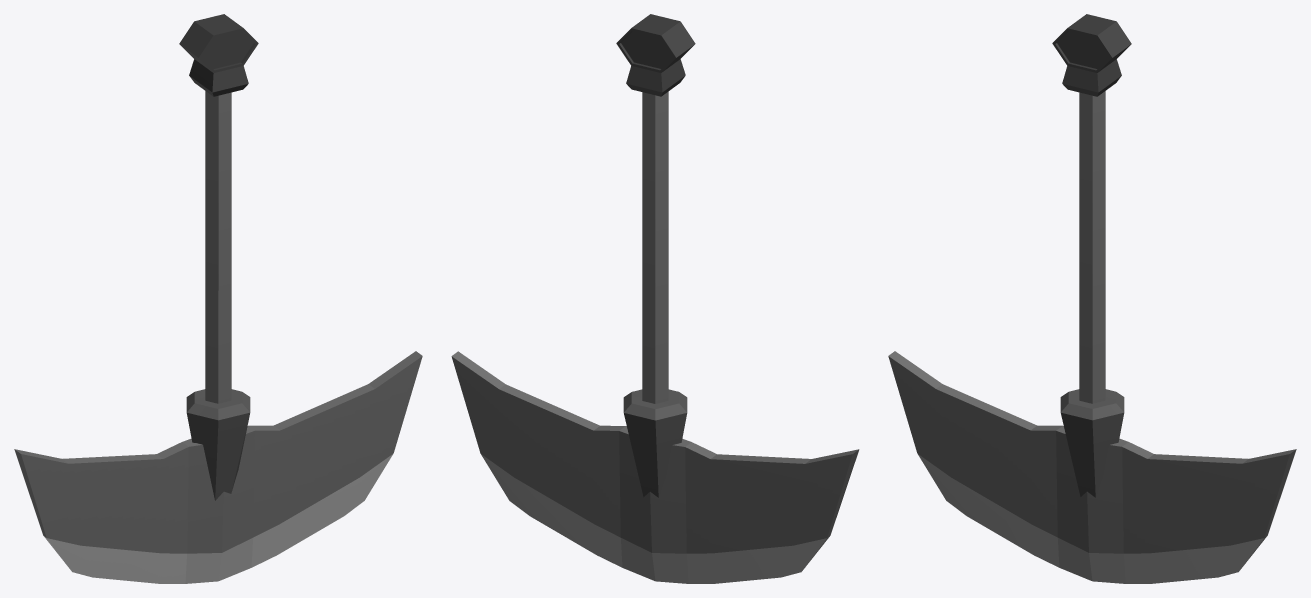
File: Guillotine.fbx
The picture shows the model from 3 angles, left to right: view 1: azimuth 30°, elevation 25°; view 2: azimuth 150°, elevation 25°; view 3: azimuth 330°, elevation 25°; orthographic projection.
Visible parts, largest first — view 1: Guillotine; view 2: Guillotine; view 3: Guillotine.
Boxes of the visible parts, <box> form: Guillotine: <box>14,14,422,583</box>; Guillotine: <box>451,14,859,583</box>; Guillotine: <box>888,14,1296,583</box>.
Size of the model in its own units: 192 by 255 by 26.38.
1 material, 1 textured.
